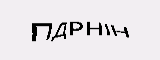І: (103, 15, 112, 41)
Д: (52, 20, 69, 45)
Н: (111, 21, 133, 42), (85, 17, 103, 40)
П: (29, 19, 52, 44)
Р: (69, 20, 84, 40)
